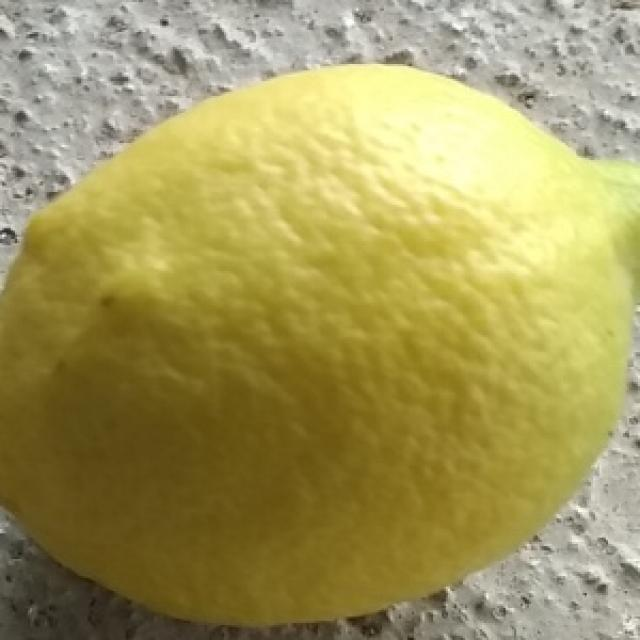Lemon: (0, 61, 640, 630)
